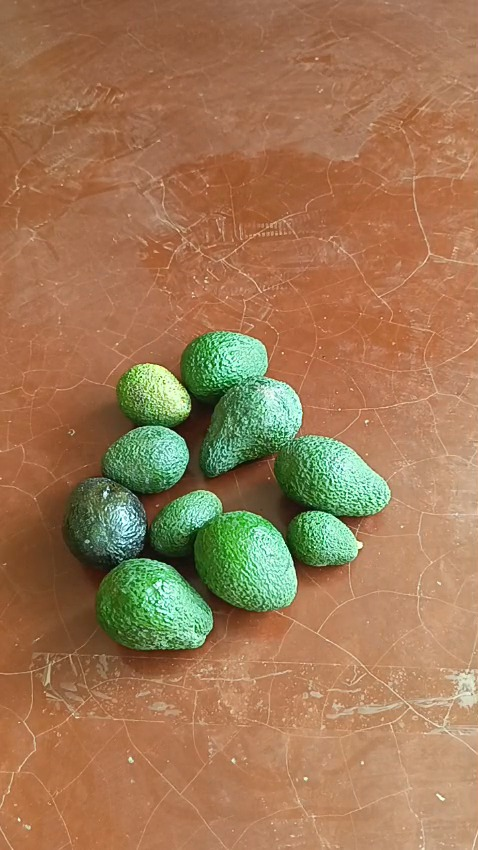Primera: (94, 556, 215, 648), (199, 377, 303, 478), (194, 510, 297, 610), (273, 434, 390, 515), (62, 476, 150, 569), (179, 330, 267, 401)
Segunda: (101, 425, 190, 494), (115, 361, 192, 427)
Tercera: (148, 488, 224, 557), (283, 510, 362, 569)
